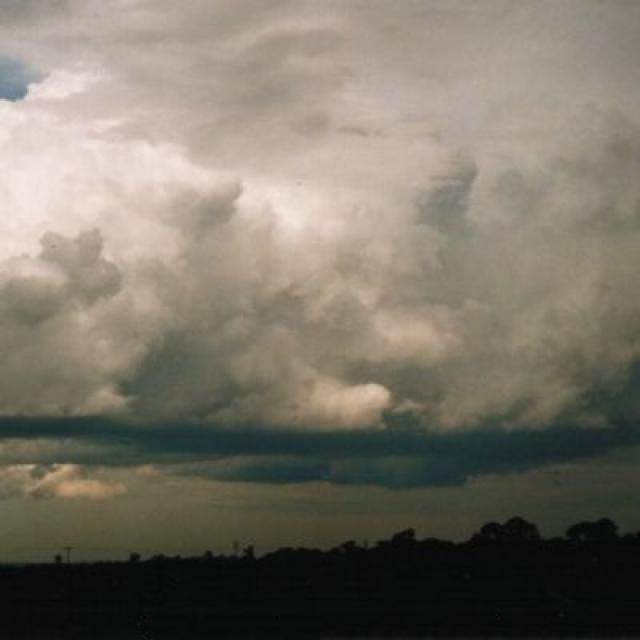Cb: (1, 10, 640, 483)
